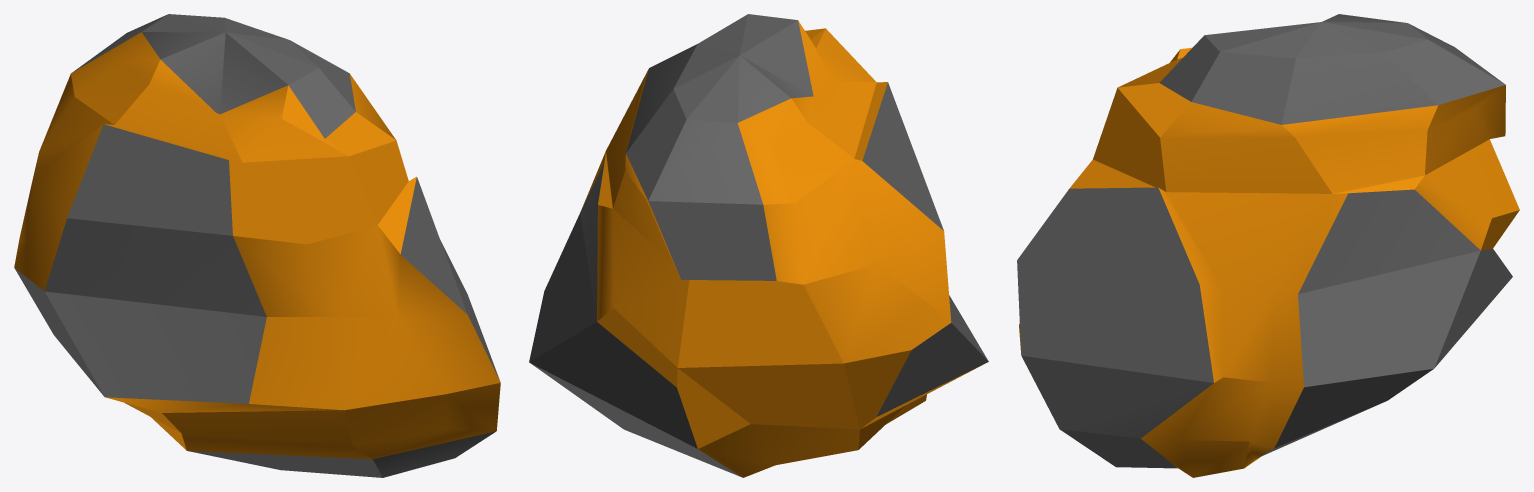
File: MoltenBoulder3.fbx
3 renders of one model, left to right at view 1: azimuth 30°, elevation 25°; view 2: azimuth 150°, elevation 25°; view 3: azimuth 270°, elevation 25°, orthographic. The views are drawn at different scales.
Visible parts, largest first — view 1: pSphere1; view 2: pSphere1; view 3: pSphere1.
Part boxes in pixels (bbox=[...]): pSphere1: bbox=[14, 14, 500, 477]; pSphere1: bbox=[529, 14, 988, 477]; pSphere1: bbox=[1017, 14, 1519, 477].
Bounding box in the file's own units: 3.14 × 3.15 × 3.6.
